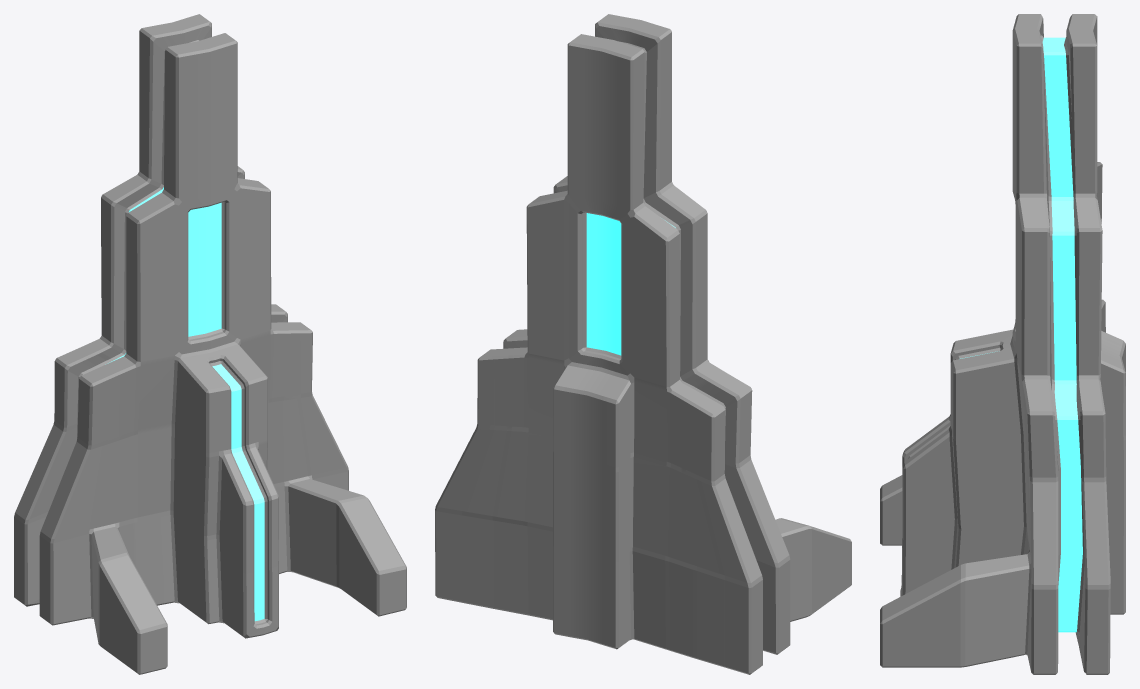
Rendered from CageDevice_1.fbx.
The picture shows the model from 3 angles, left to right: view 1: azimuth 30°, elevation 25°; view 2: azimuth 150°, elevation 25°; view 3: azimuth 270°, elevation 25°; orthographic projection. The views are drawn at different scales.
Parts seen in each view (by area): view 1: pCube7; view 2: pCube7; view 3: pCube7.
Boxes of the visible parts, box(x1,y1,x2,y2) form: pCube7: box(14, 14, 406, 674); pCube7: box(435, 14, 851, 674); pCube7: box(880, 14, 1125, 674).
Bounding box in the file's own units: 1.01 × 1.77 × 0.6889.
